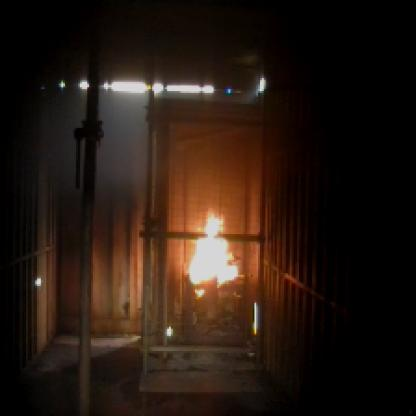Fire: (186, 212, 234, 292)
